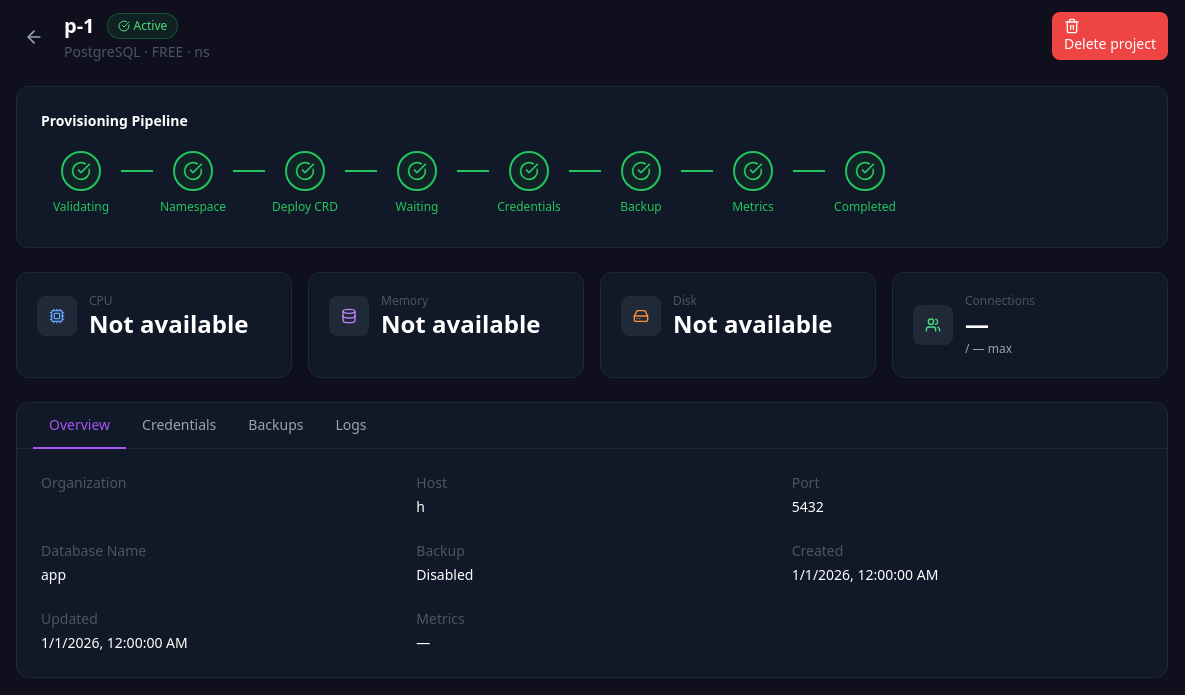
InstanceDetailPage — backup history › each backup shows its size
This screenshot has width=1185, height=695.
Click the button "backups": (276, 426) top-left (232, 403), bottom-right (319, 449)
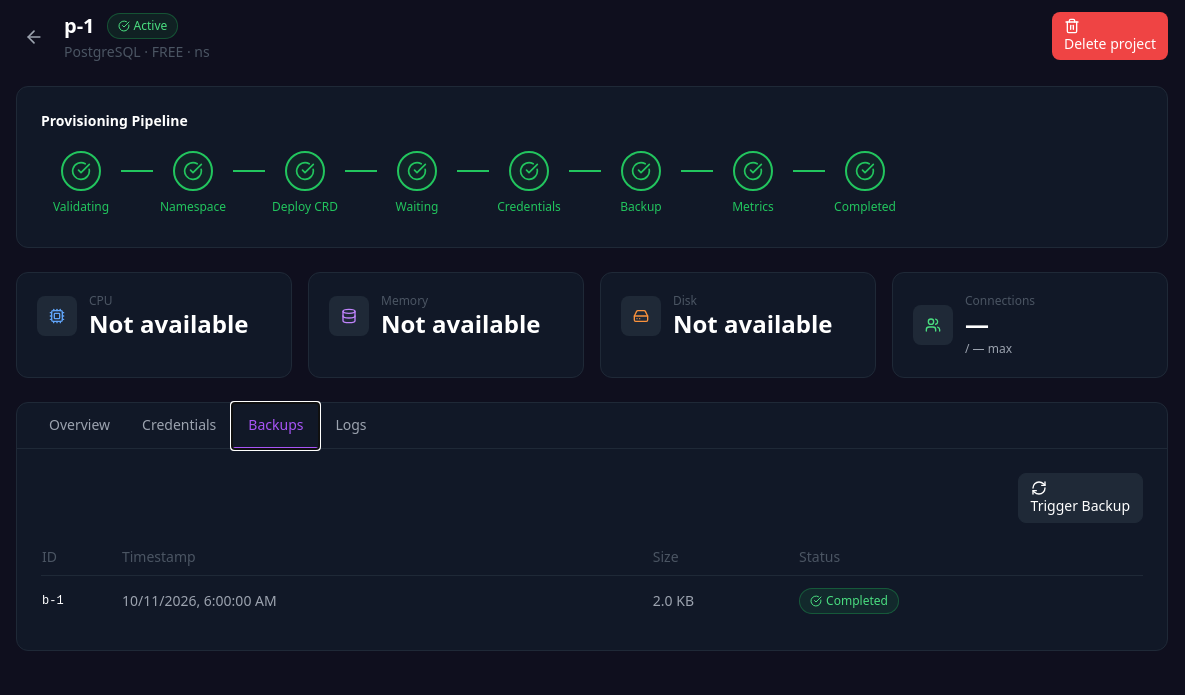
Now the text "b-1" shows "2.0 KB", box top-left (653, 591), bottom-right (694, 610)
